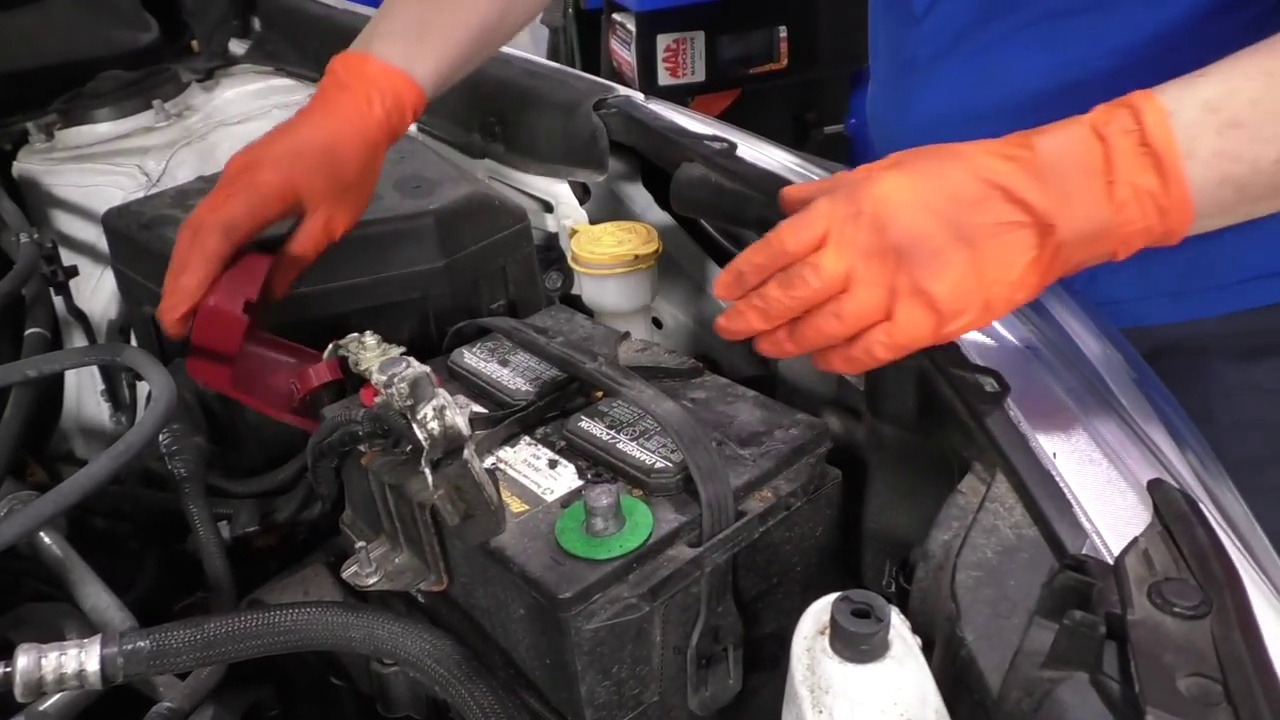battery: (310, 292, 829, 575)
neg_disconnected: (539, 470, 682, 580)
pos_touched: (162, 162, 429, 449)
